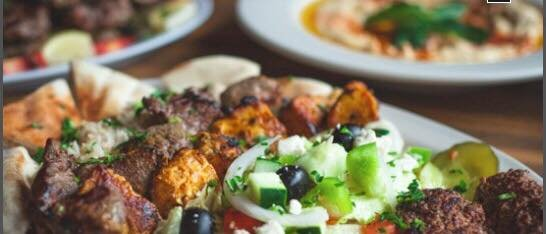curry: (15, 0, 543, 229)
sandwich: (300, 1, 543, 64)
